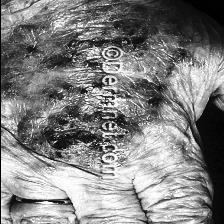Potentially Malignant Skin Tumors: (26, 102, 98, 170)
